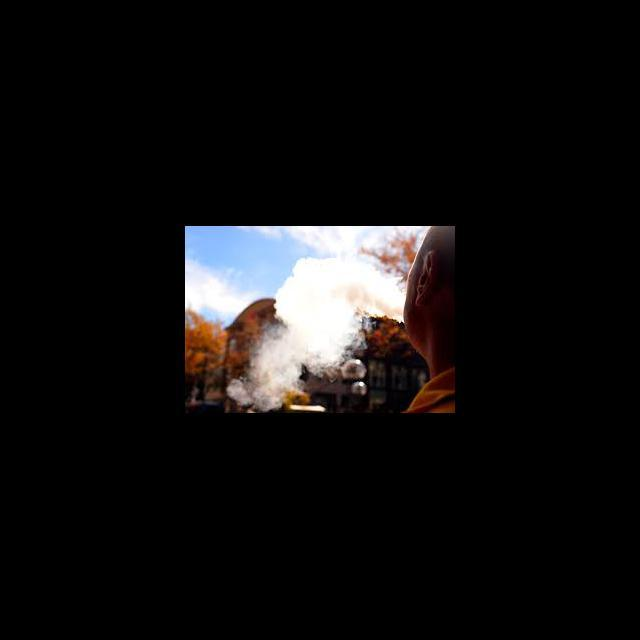Smoke: (226, 246, 404, 409)
